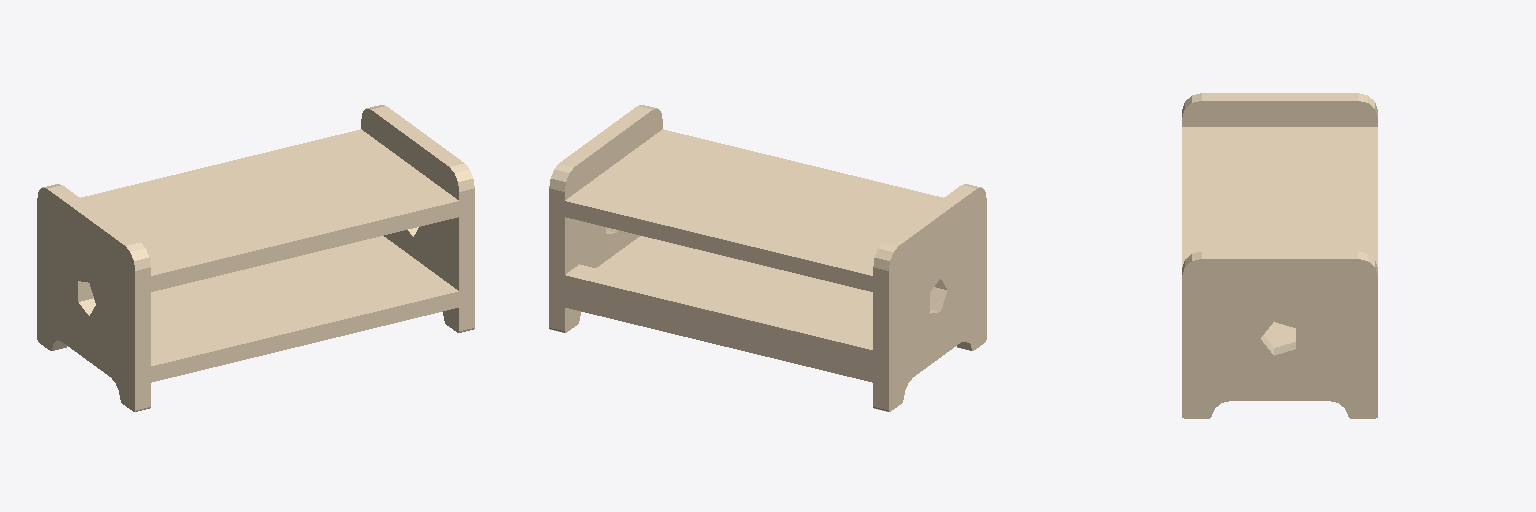
Rendered from glens_monitor_riser_2_tier.obj.
3 views of the same model, side by side, from view 1: azimuth 30°, elevation 25°; view 2: azimuth 150°, elevation 25°; view 3: azimuth 270°, elevation 25° (orthographic).
Visible parts, largest first — view 1: Body1, Body2; view 2: Body1, Body2; view 3: Body2, Body1.
Boxes of the visible parts, x1=… form: Body1: x1=37, y1=184, x2=458, y2=411; Body2: x1=81, y1=105, x2=474, y2=332; Body1: x1=565, y1=184, x2=986, y2=411; Body2: x1=549, y1=105, x2=942, y2=332; Body2: x1=1182, y1=127, x2=1377, y2=418; Body1: x1=1182, y1=93, x2=1377, y2=347.
Size of the model in its own units: 40 by 18 by 20.